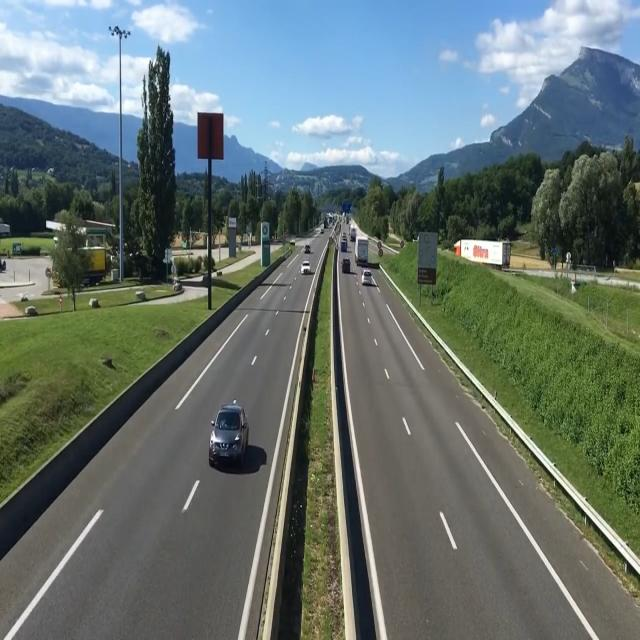car: (210, 398, 250, 474), (300, 260, 313, 276), (341, 257, 352, 274), (362, 270, 372, 286), (303, 242, 312, 257)
truck: (453, 237, 508, 259), (355, 232, 370, 266)
